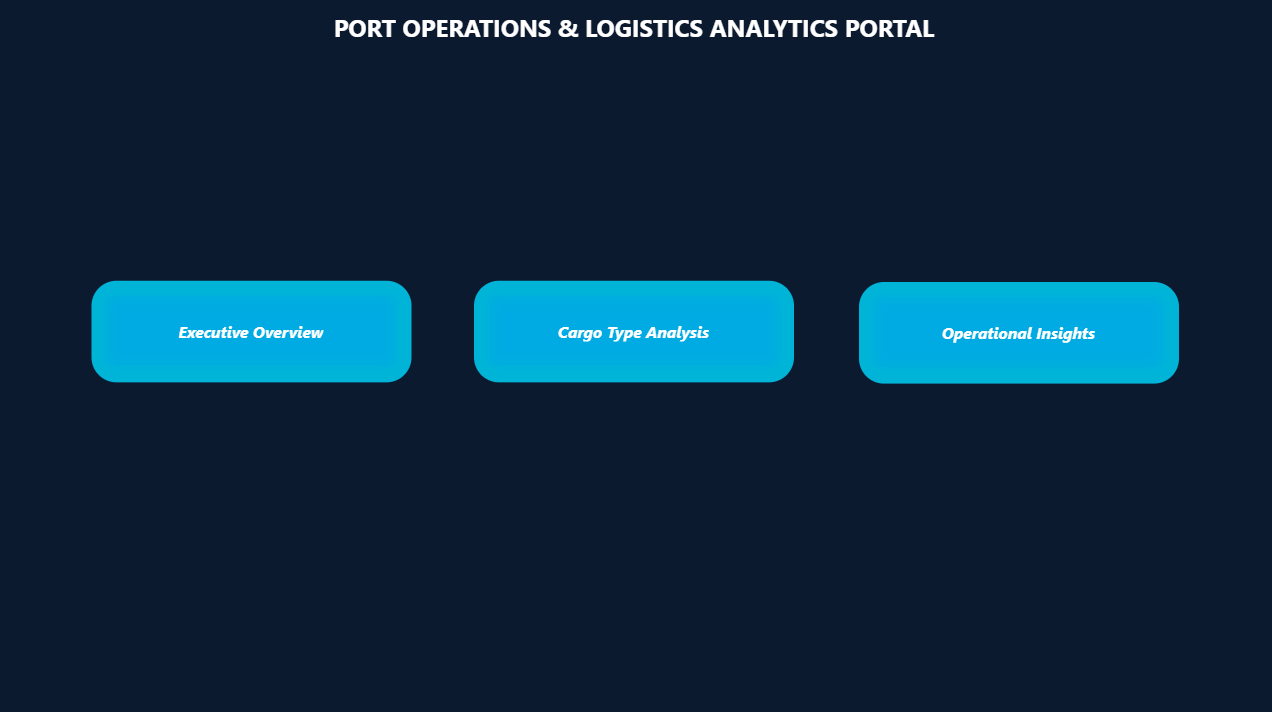

What the dashboard file says about the page in this screenshot:
{"tool":"powerbi","page":{"name":"Cover Page","canvas":[1280,720],"ordinal":0},"visuals":[{"type":"textbox","box":[0,10,1270,68.8],"z":0},{"type":"actionButton","title":"Executive Overview","box":[92.5,283.8,320,101.2],"z":1000},{"type":"actionButton","box":[475,283.8,320,101.2],"z":2000},{"type":"actionButton","box":[860,285,320,101.2],"z":3000}]}

Visuals, with their boxes in screenshot pixels (x1, y1, x2, y2), scaled from the page's 1280x720 canvas onto the 1272x712 screenshot:
textbox: (left=0, top=10, right=1262, bottom=78)
"Executive Overview" actionButton: (left=92, top=281, right=410, bottom=381)
actionButton: (left=472, top=281, right=790, bottom=381)
actionButton: (left=855, top=282, right=1173, bottom=382)
